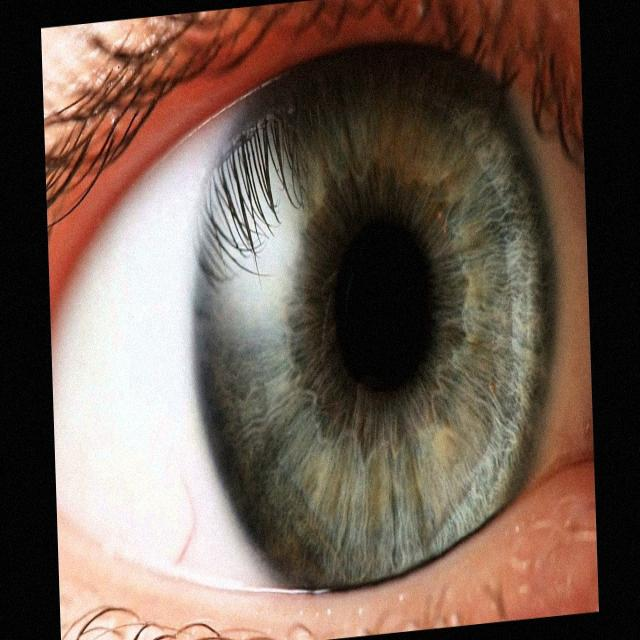Healthy-Eye: (122, 84, 565, 596)
